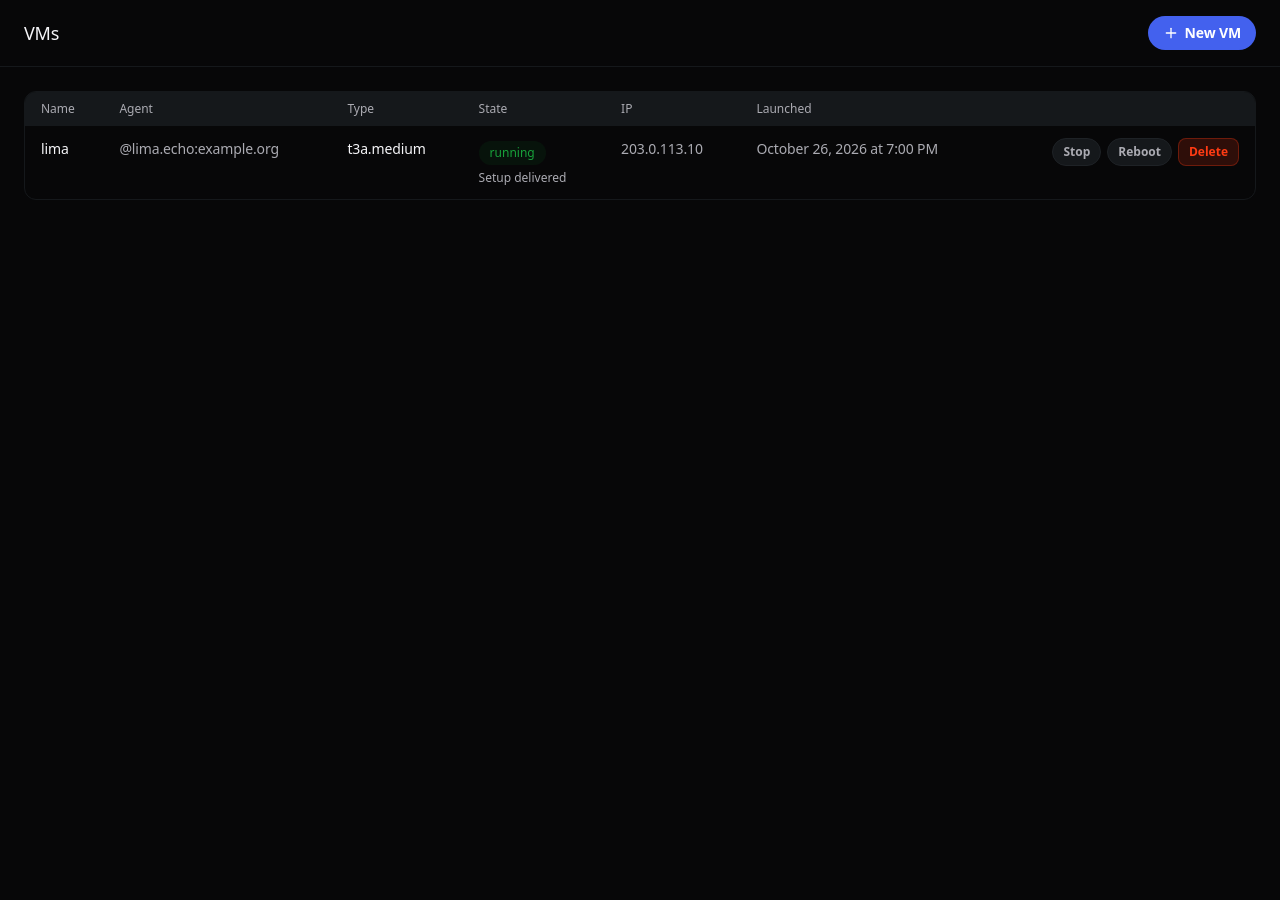
Test: <VmRoute> › New VM dialog › loads the instance types and agents each time it opens
Click the button "New VM". click: (1202, 33)
box: [1148,16,1256,50]
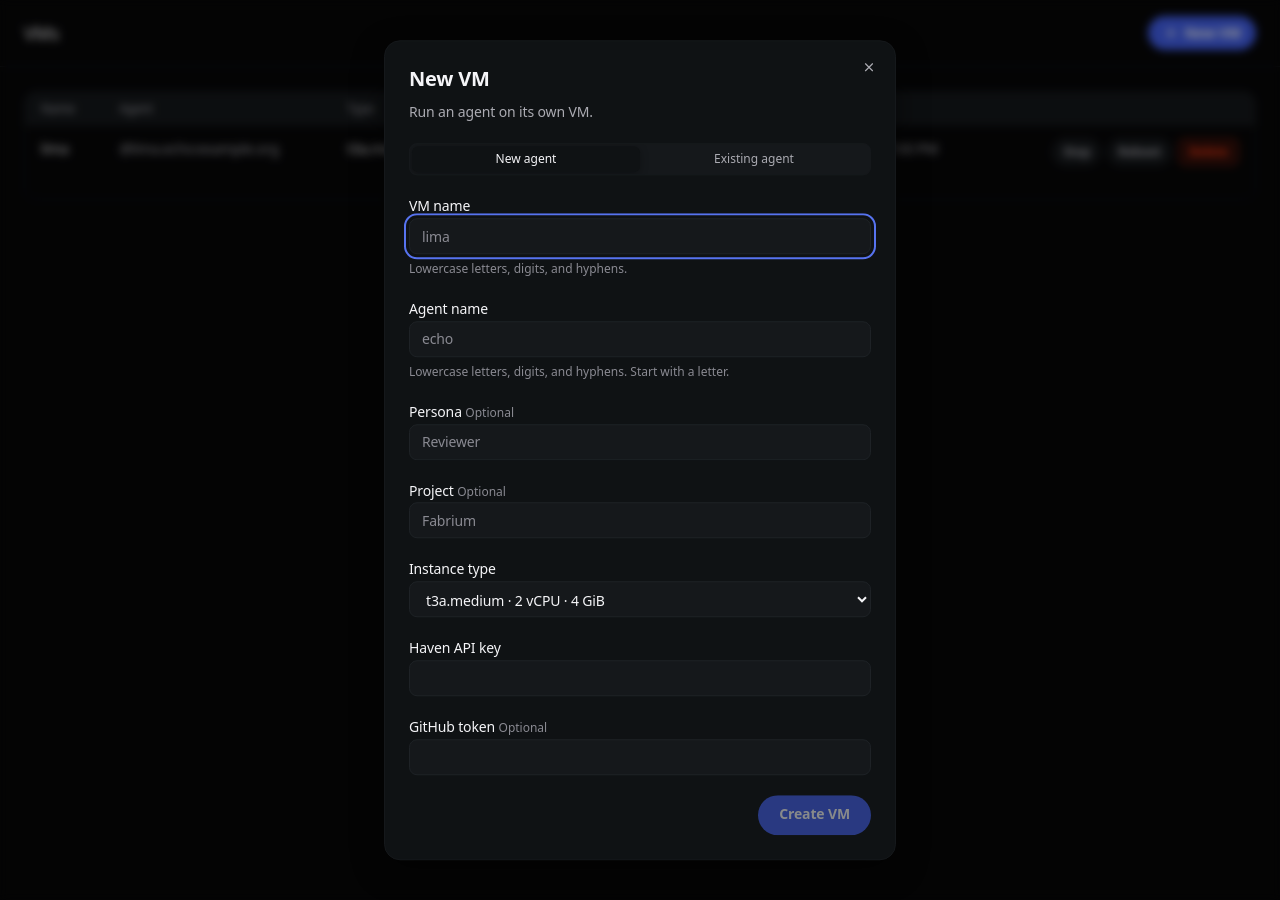
Expected: the dropdown labelled "Instance type" is shown, [409,581,871,617]
Press Escape
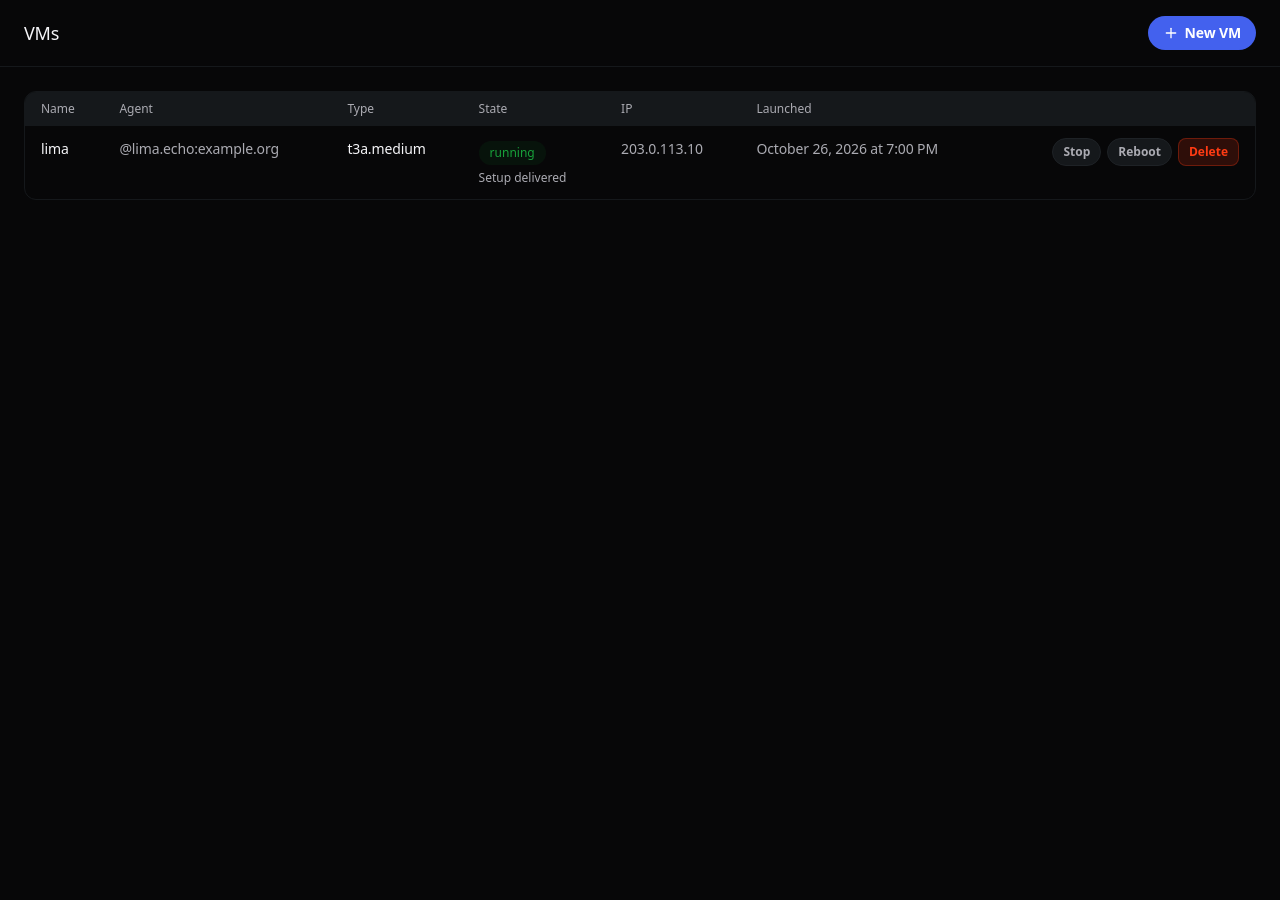
Expected: the dialog is gone
Click the button "New VM". click: (1202, 33)
box: [1148,16,1256,50]
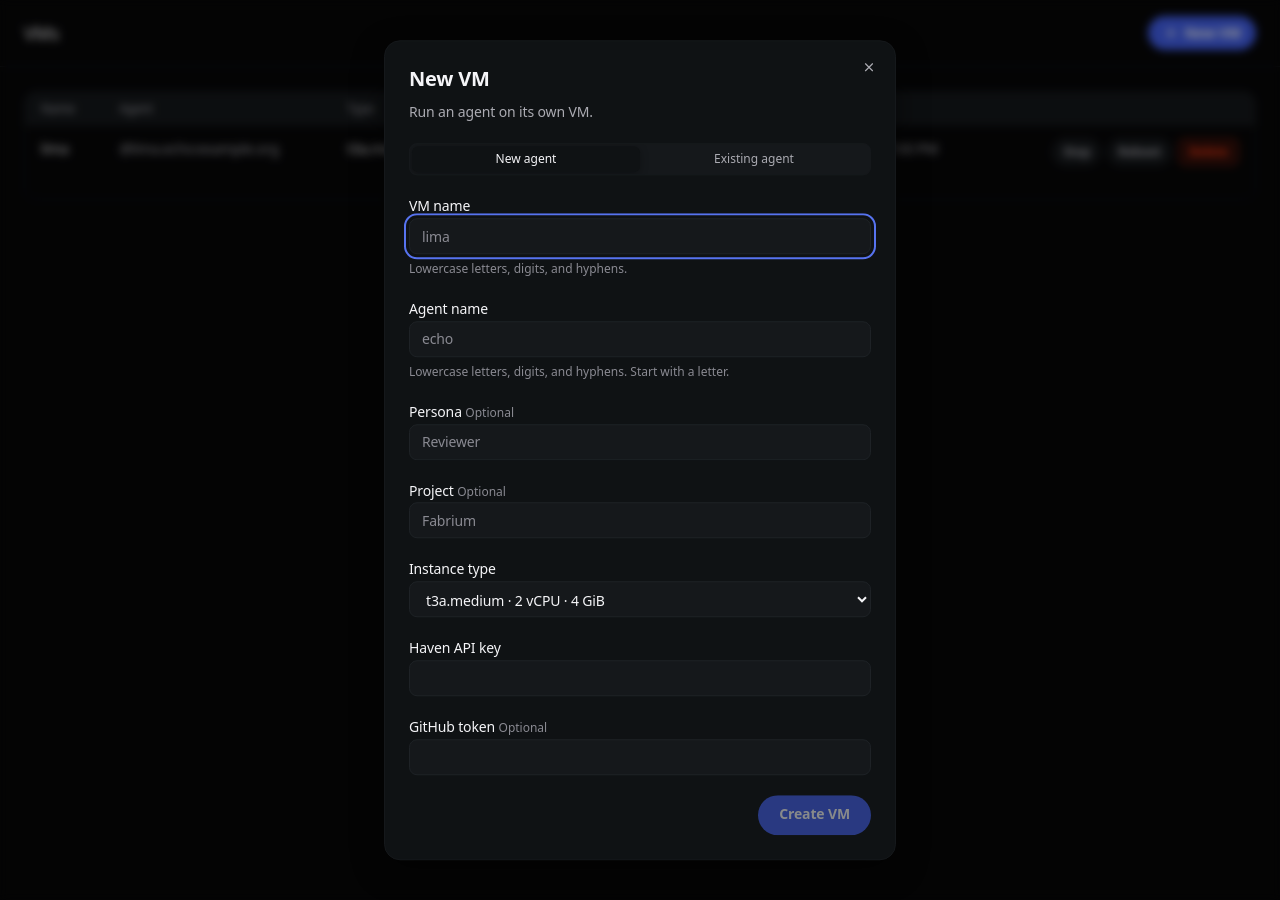
Expected: the dropdown labelled "Instance type" is shown, [409,581,871,617]
